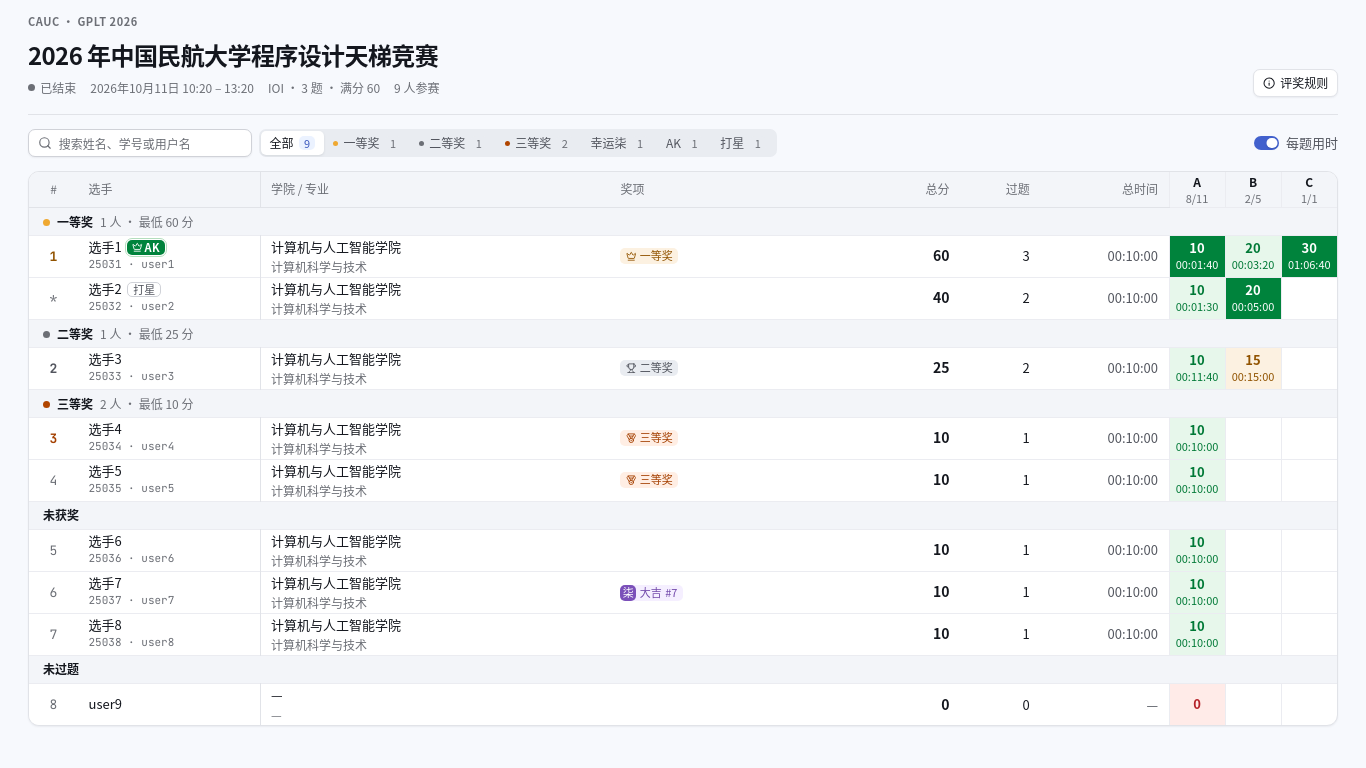
Test: public contest board page › hides the per-problem clock with the switch
Check: the cell "10 00:01:40" is shown, box [1169,235,1225,277]
Click the switch labelled "每题用时". click: x=1296, y=143
box: [1254,133,1338,153]
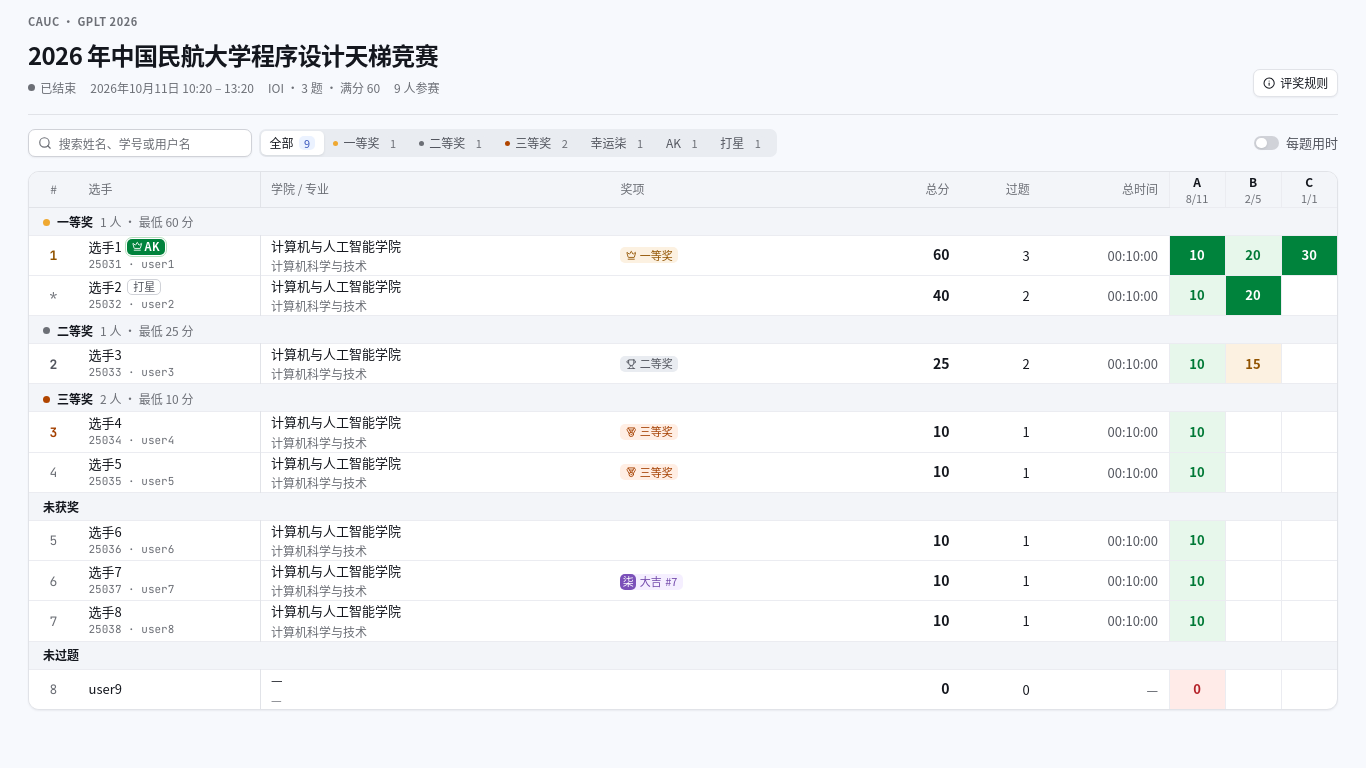
Check: the cell "10" in the row of "选手1" is shown, box [1189,245,1205,264]
